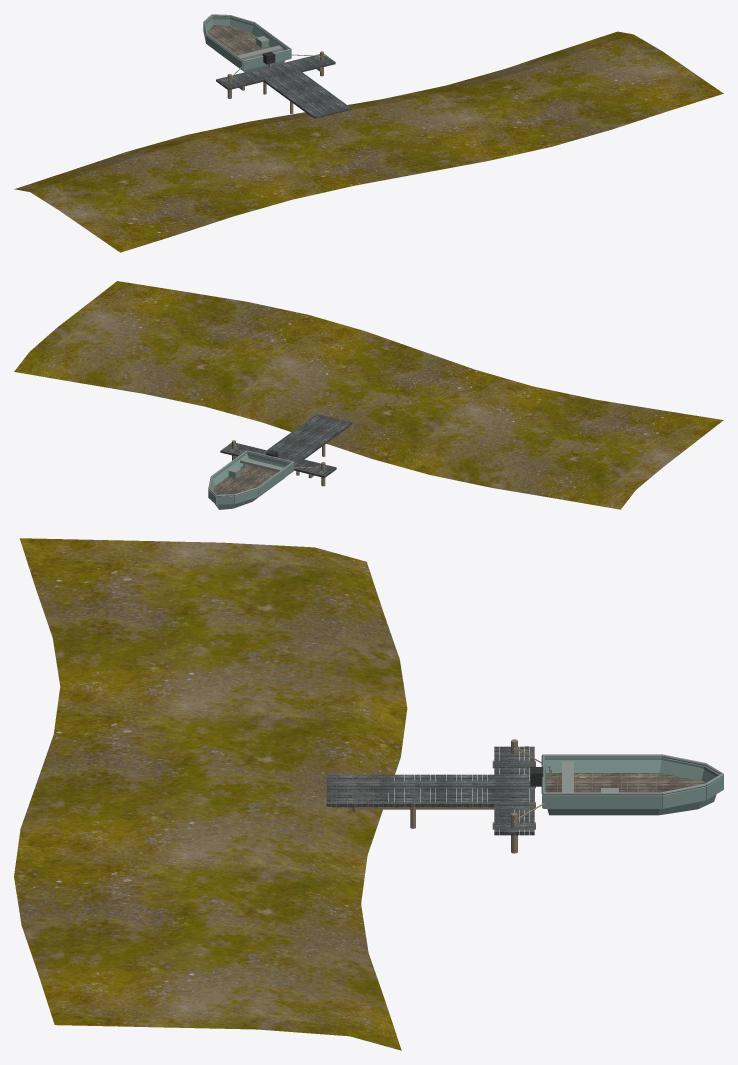
File: bell_park_pier.glb
The picture shows the model from 3 angles, top to bottom: view 1: azimuth 30°, elevation 25°; view 2: azimuth 150°, elevation 25°; view 3: azimuth 270°, elevation 25°; orthographic projection. The views are drawn at different scales.
Visible parts, largest first — view 1: bell_park_pier_BakedForeground; view 2: bell_park_pier_BakedForeground; view 3: bell_park_pier_BakedForeground.
Boxes of the visible parts, left/top/right/bottom form: bell_park_pier_BakedForeground: left=14, top=14, right=723, bottom=252; bell_park_pier_BakedForeground: left=14, top=281, right=723, bottom=509; bell_park_pier_BakedForeground: left=14, top=538, right=723, bottom=1050.
Size of what is drawn, in the model's own units: 40 by 1.72 by 24.54.
9 materials, 3 textured.
